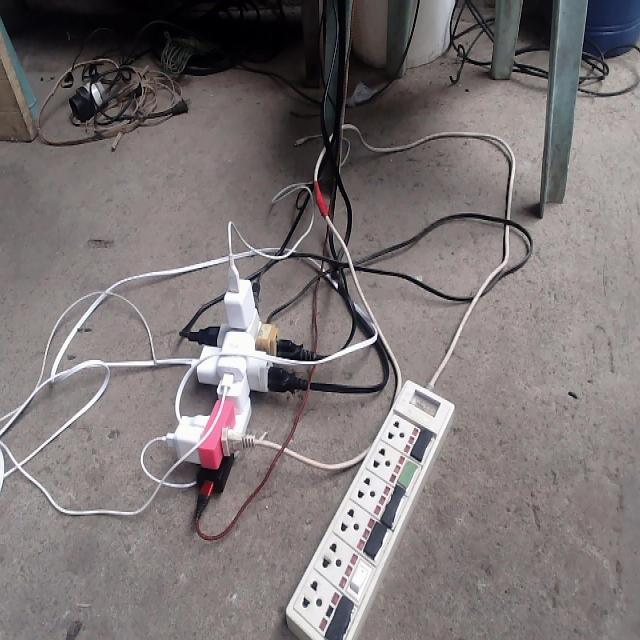-: (162, 277, 287, 487)
